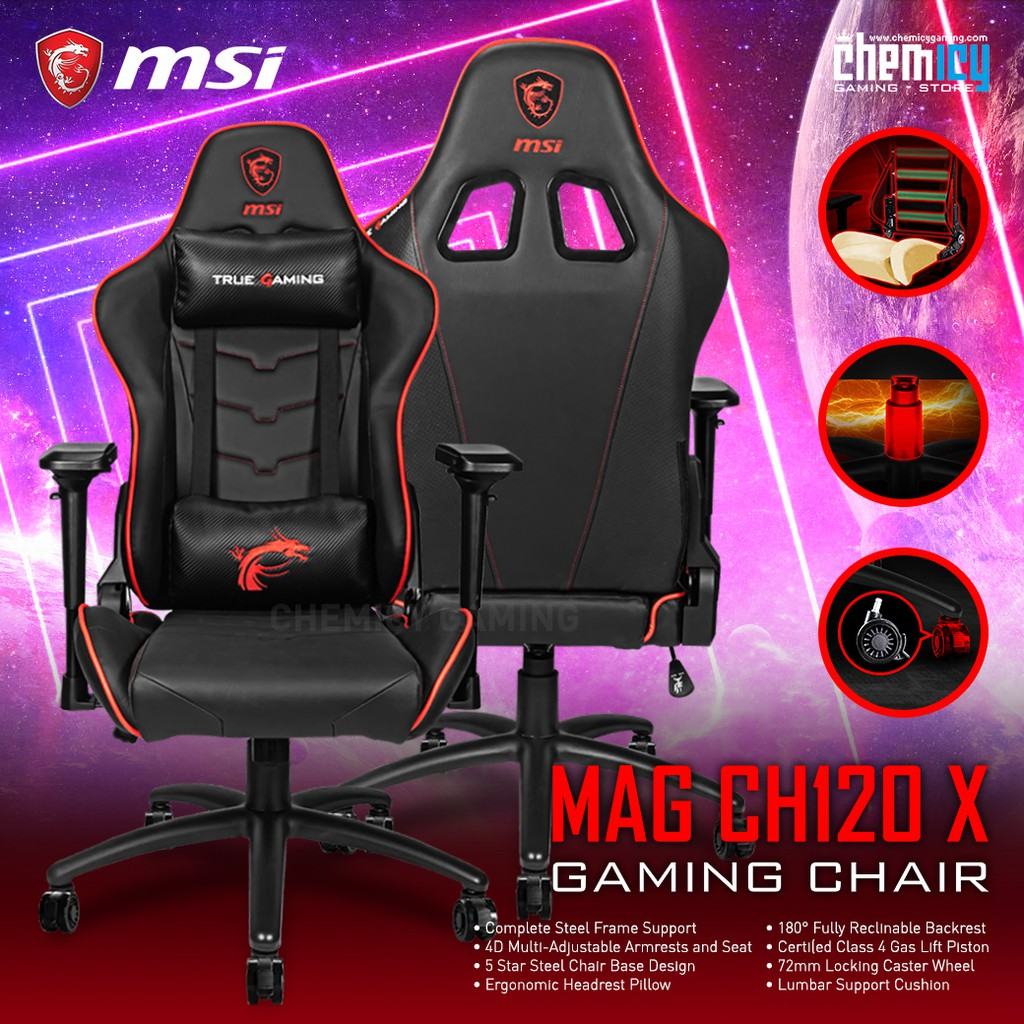kursi: (40, 116, 508, 1024), (382, 34, 721, 807)
